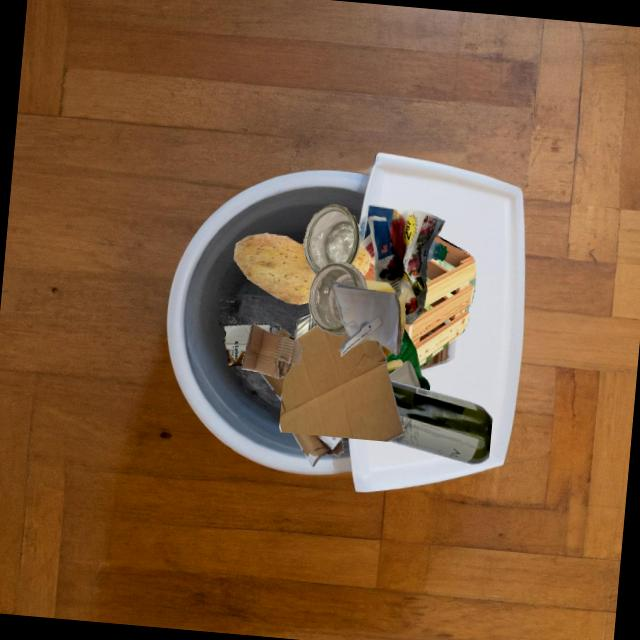biowaste: (233, 233, 316, 304), (386, 283, 408, 351)
cardboard: (279, 325, 403, 441), (241, 322, 301, 379), (292, 433, 343, 467), (223, 324, 252, 366), (259, 372, 283, 401), (278, 327, 294, 340)
combustible waste: (404, 235, 475, 367)
glass: (389, 380, 492, 464), (308, 261, 367, 336), (303, 204, 360, 274), (388, 360, 420, 388)
metal: (293, 313, 317, 340)
paper: (359, 204, 444, 324), (329, 278, 401, 357)
plastic: (386, 328, 429, 390), (363, 228, 433, 257)
